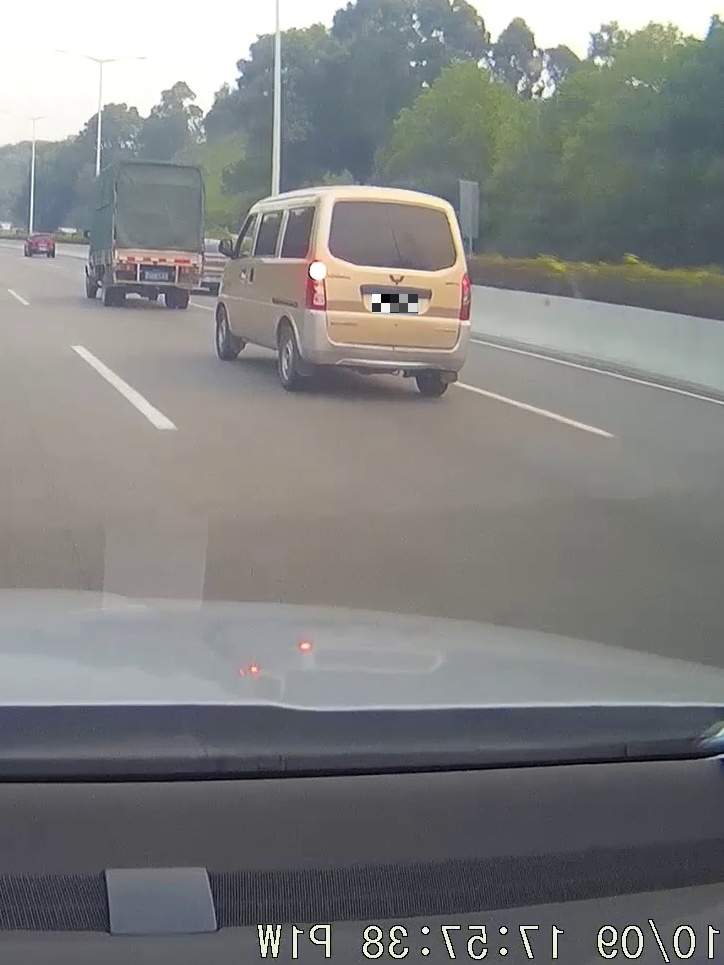L_light: (304, 260, 326, 311), (117, 264, 134, 271)
R_light: (459, 272, 471, 321), (181, 266, 198, 273)
T_light: (375, 202, 410, 211), (149, 252, 166, 259)
day-left: (302, 184, 473, 398)
day-no: (110, 160, 204, 308)
plate_1: (372, 294, 418, 313)
